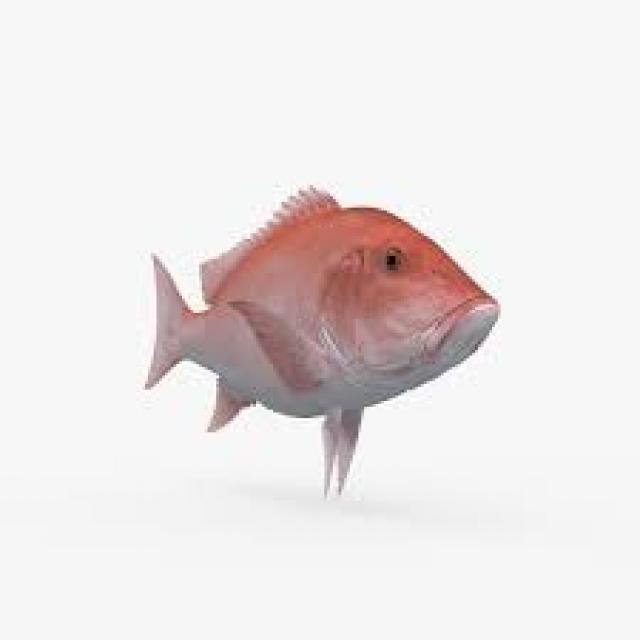northern-red-snapper: (99, 117, 528, 530)
